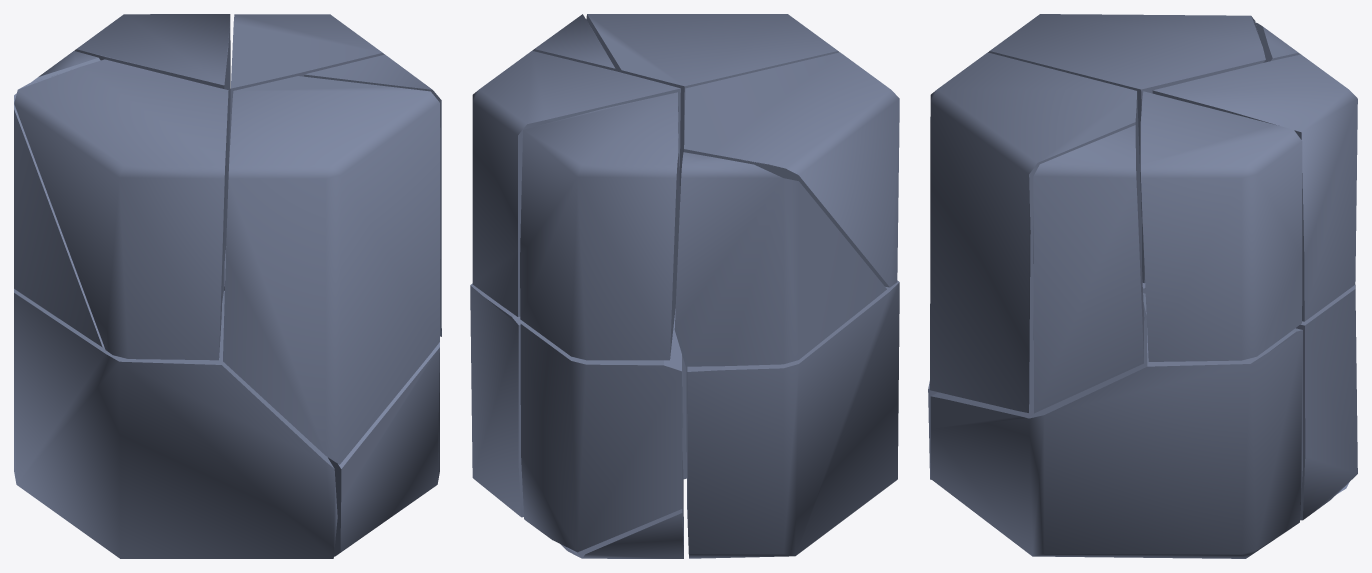
Rendered from cracked money base.fbx.
The picture shows the model from 3 angles, left to right: view 1: azimuth 30°, elevation 25°; view 2: azimuth 150°, elevation 25°; view 3: azimuth 270°, elevation 25°; orthographic projection.
Parts seen in each view (by area): view 1: Cylinder.006_cell.005, Cylinder.006_cell.009, Cylinder.006_cell, Cylinder.006_cell.003, Cylinder.006_cell.008, Cylinder.006_cell.007, Cylinder.006_cell.004, Cylinder.006_cell.001; view 2: Cylinder.006_cell.009, Cylinder.006_cell.007, Cylinder.006_cell.008, Cylinder.006_cell.006, Cylinder.006_cell, Cylinder.006_cell.004, Cylinder.006_cell.005, Cylinder.006_cell.003, Cylinder.006_cell.002, Cylinder.006_cell.001; view 3: Cylinder.006_cell.003, Cylinder.006_cell.005, Cylinder.006_cell.004, Cylinder.006_cell.001, Cylinder.006_cell.007, Cylinder.006_cell, Cylinder.006_cell.006, Cylinder.006_cell.008.
Boxes of the visible parts, x1=… form: Cylinder.006_cell.005: x1=223, y1=76, x2=440, y2=464; Cylinder.006_cell.009: x1=14, y1=289, x2=337, y2=558; Cylinder.006_cell: x1=14, y1=59, x2=228, y2=360; Cylinder.006_cell.003: x1=328, y1=342, x2=439, y2=556; Cylinder.006_cell.008: x1=14, y1=51, x2=224, y2=347; Cylinder.006_cell.007: x1=74, y1=14, x2=230, y2=264; Cylinder.006_cell.004: x1=229, y1=14, x2=384, y2=163; Cylinder.006_cell.001: x1=304, y1=54, x2=441, y2=336; Cylinder.006_cell.009: x1=686, y1=280, x2=899, y2=558; Cylinder.006_cell.007: x1=520, y1=92, x2=679, y2=360; Cylinder.006_cell.008: x1=674, y1=152, x2=886, y2=366; Cylinder.006_cell.006: x1=520, y1=309, x2=682, y2=552; Cylinder.006_cell: x1=684, y1=52, x2=899, y2=287; Cylinder.006_cell.004: x1=472, y1=51, x2=680, y2=316; Cylinder.006_cell.005: x1=586, y1=14, x2=839, y2=201; Cylinder.006_cell.003: x1=470, y1=283, x2=686, y2=517; Cylinder.006_cell.002: x1=560, y1=452, x2=683, y2=558; Cylinder.006_cell.001: x1=532, y1=14, x2=615, y2=70; Cylinder.006_cell.003: x1=930, y1=293, x2=1302, y2=558; Cylinder.006_cell.005: x1=930, y1=52, x2=1141, y2=412; Cylinder.006_cell.004: x1=1140, y1=91, x2=1302, y2=361; Cylinder.006_cell.001: x1=1033, y1=125, x2=1144, y2=413; Cylinder.006_cell.007: x1=1152, y1=54, x2=1357, y2=321; Cylinder.006_cell: x1=988, y1=14, x2=1265, y2=216; Cylinder.006_cell.006: x1=1296, y1=284, x2=1357, y2=520; Cylinder.006_cell.008: x1=1141, y1=22, x2=1300, y2=283.
Bounding box in the file's own units: 0.1474 × 0.1702 × 0.1681.
